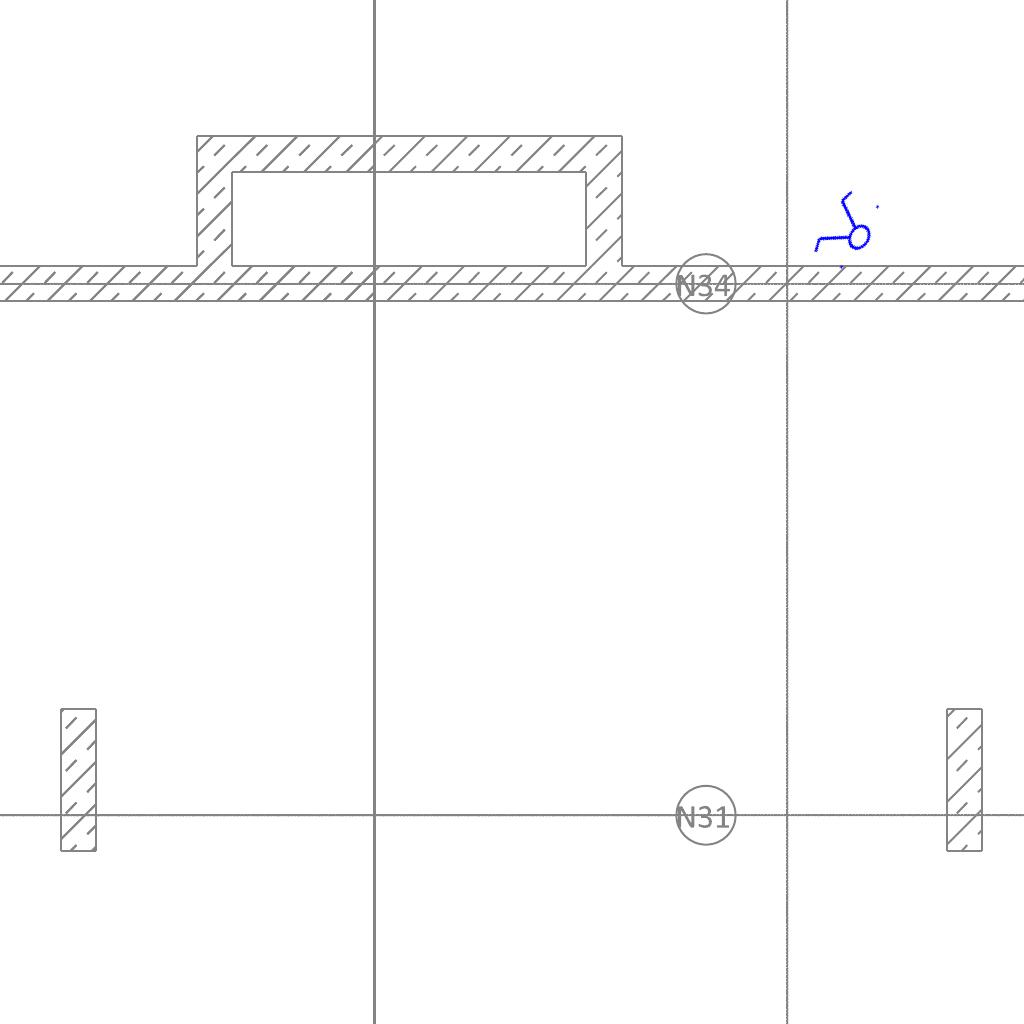Serienschalter: (805, 182, 891, 280)
